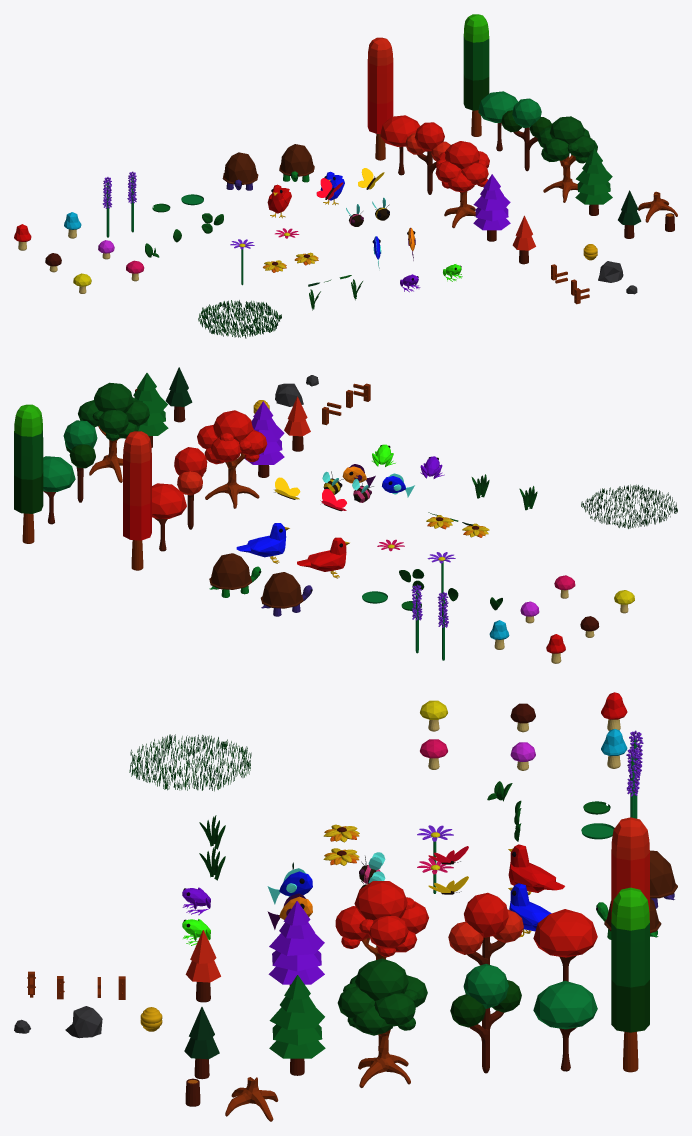
The model's file is Low-Poly Nature Pack obj.obj.
3 views of the same model, one above another, from view 1: azimuth 30°, elevation 25°; view 2: azimuth 150°, elevation 25°; view 3: azimuth 270°, elevation 25° (orthographic). The views are drawn at different scales.
Parts seen in each view (by area): view 1: Tree_1_-_Solidified, Tree_4_-_Solidified, Tree_1_-_Canopy, Tree_4_-_Canopy, Grass_Patch_-_Circle, Tree_3_-_Solidified, Tree_5_-_Solidified, Tree_5_-_Canopy, Turtle_-_Solidified, Tree_2_-_Solidified, Tree_2_-_Canopy, Turtle_-_Shell (+4 smaller); view 2: Tree_1_-_Solidified, Tree_4_-_Solidified, Tree_1_-_Canopy, Tree_4_-_Canopy, Grass_Patch_-_Circle, Tree_3_-_Solidified, Turtle_-_Solidified, Tree_5_-_Solidified, Tree_5_-_Canopy, Turtle_-_Shell, Tree_2_-_Solidified, Tree_2_-_Canopy (+8 smaller); view 3: Tree_4_-_Solidified, Tree_1_-_Solidified, Tree_4_-_Canopy, Grass_Patch_-_Circle, Tree_3_-_Solidified, Tree_5_-_Solidified, Tree_5_-_Canopy, Tree_1_-_Canopy, Tree_2_-_Solidified, Tree_2_-_Canopy, Tree_3_-_Canopy_1, Tree_3_-_Canopy_2 (+9 smaller).
Boxes of the visible parts, <box> form: Tree_1_-_Solidified: <box>463,14,489,136</box>; Tree_4_-_Solidified: <box>537,116,597,202</box>; Tree_1_-_Canopy: <box>367,37,393,133</box>; Tree_4_-_Canopy: <box>435,141,489,192</box>; Grass_Patch_-_Circle: <box>198,300,281,338</box>; Tree_3_-_Solidified: <box>501,98,551,171</box>; Tree_5_-_Solidified: <box>575,148,612,215</box>; Tree_5_-_Canopy: <box>473,174,510,230</box>; Turtle_-_Solidified: <box>279,144,314,182</box>; Tree_2_-_Solidified: <box>478,91,517,151</box>; Tree_2_-_Canopy: <box>380,115,419,146</box>; Turtle_-_Shell: <box>222,152,258,184</box>; Tree_1_-_Solidified: <box>14,404,43,543</box>; Tree_4_-_Solidified: <box>78,382,149,482</box>; Tree_1_-_Canopy: <box>123,431,151,540</box>; Tree_4_-_Canopy: <box>197,410,267,464</box>; Grass_Patch_-_Circle: <box>581,484,677,528</box>; Tree_3_-_Solidified: <box>63,420,97,502</box>; Turtle_-_Solidified: <box>209,553,261,597</box>; Tree_5_-_Solidified: <box>133,373,168,447</box>; Tree_5_-_Canopy: <box>244,401,284,464</box>; Turtle_-_Shell: <box>260,572,303,608</box>; Tree_2_-_Solidified: <box>43,456,75,524</box>; Tree_2_-_Canopy: <box>152,483,186,518</box>; Tree_4_-_Solidified: <box>337,958,427,1087</box>; Tree_1_-_Solidified: <box>611,887,649,1072</box>; Tree_4_-_Canopy: <box>335,881,428,956</box>; Grass_Patch_-_Circle: <box>129,734,251,791</box>; Tree_3_-_Solidified: <box>450,964,521,1073</box>; Tree_5_-_Solidified: <box>269,975,325,1075</box>; Tree_5_-_Canopy: <box>268,901,324,984</box>; Tree_1_-_Canopy: <box>611,817,649,919</box>; Tree_2_-_Solidified: <box>533,981,597,1071</box>; Tree_2_-_Canopy: <box>533,909,597,957</box>; Tree_3_-_Canopy_1: <box>464,892,508,937</box>; Tree_3_-_Canopy_2: <box>448,909,523,954</box>.
Size of the model in its own units: 33 by 8.71 by 23.43.
